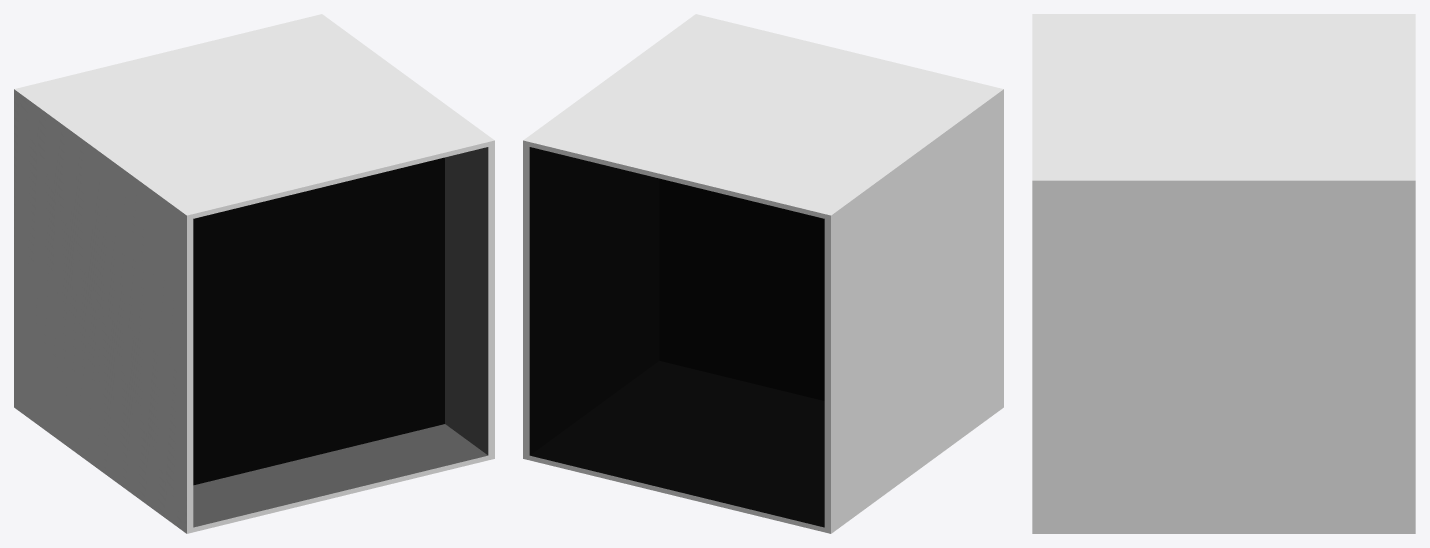
Rendered from Frame2.glb.
The picture shows the model from 3 angles, left to right: view 1: azimuth 30°, elevation 25°; view 2: azimuth 150°, elevation 25°; view 3: azimuth 270°, elevation 25°; orthographic projection. The views are drawn at different scales.
Visible parts, largest first — view 1: A_Frame, A_PaintingMesh, A_Inside; view 2: A_Frame, Material3.004; view 3: A_Frame.
Boxes of the visible parts, x1,y1,x2,y2 form: A_Frame: (14, 14, 494, 533); A_PaintingMesh: (193, 157, 444, 485); A_Inside: (193, 147, 488, 527); A_Frame: (523, 14, 1003, 533); Material3.004: (529, 147, 824, 527); A_Frame: (1032, 14, 1415, 533).
Size of what is drawn, in the model's own units: 1.05 by 1.03 by 1.02.
Materials: 5 (1 with a texture image).
